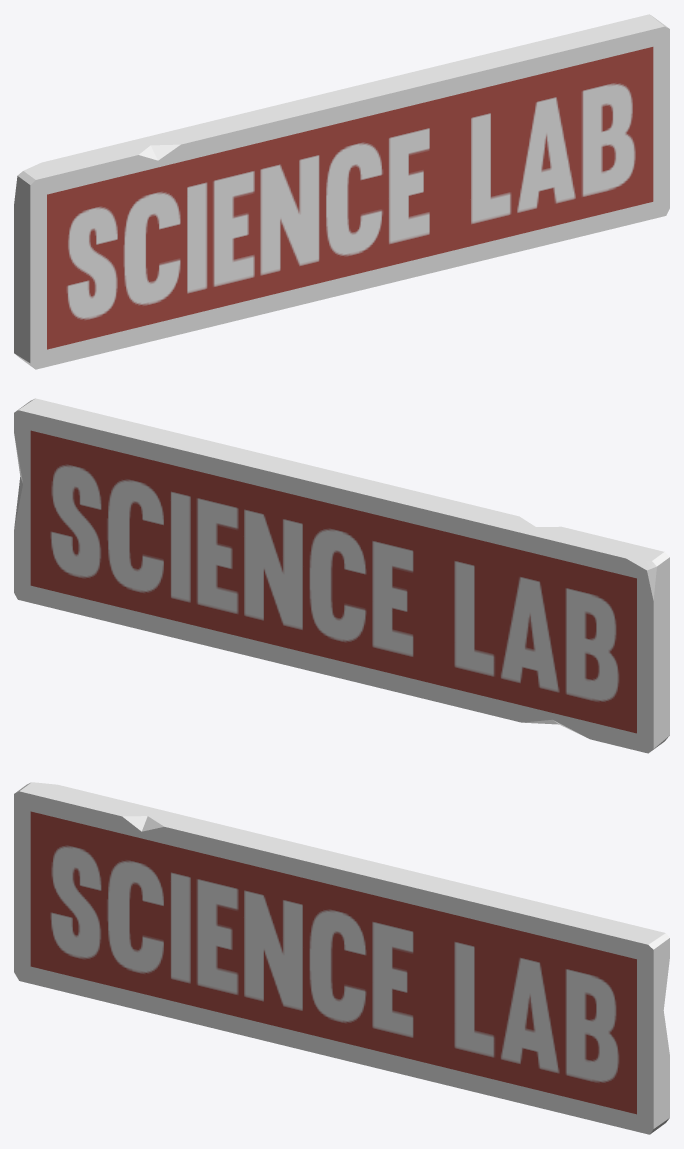
The model's file is SM_Sign_ScienceLab_01.fbx.
3 views of the same model, one above another, from view 1: azimuth 30°, elevation 25°; view 2: azimuth 150°, elevation 25°; view 3: azimuth 330°, elevation 25° (orthographic).
Visible parts, largest first — view 1: SM_Sign_ScienceLab_01; view 2: SM_Sign_ScienceLab_01; view 3: SM_Sign_ScienceLab_01.
Part boxes in pixels (bbox=[...]): SM_Sign_ScienceLab_01: bbox=[14, 14, 669, 369]; SM_Sign_ScienceLab_01: bbox=[14, 398, 669, 753]; SM_Sign_ScienceLab_01: bbox=[14, 782, 669, 1134].
Size of the model in its own units: 324 by 91.8 by 14.42.
Materials: 1 (1 with a texture image).
